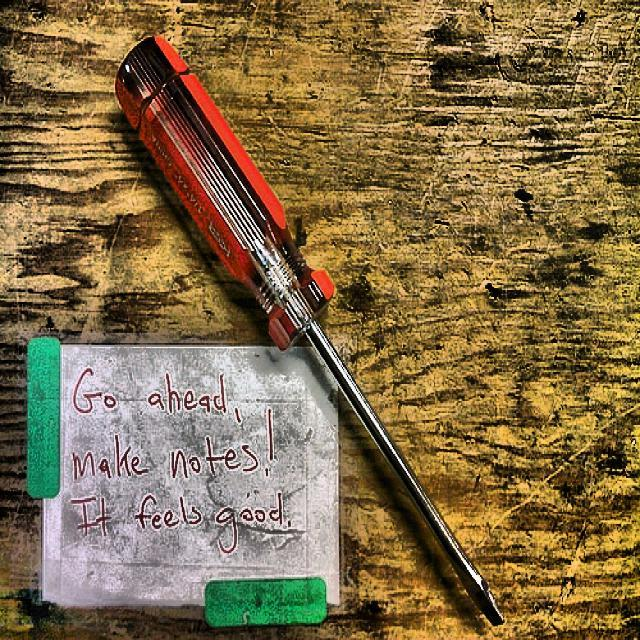screwdriver: (116, 37, 506, 626)
